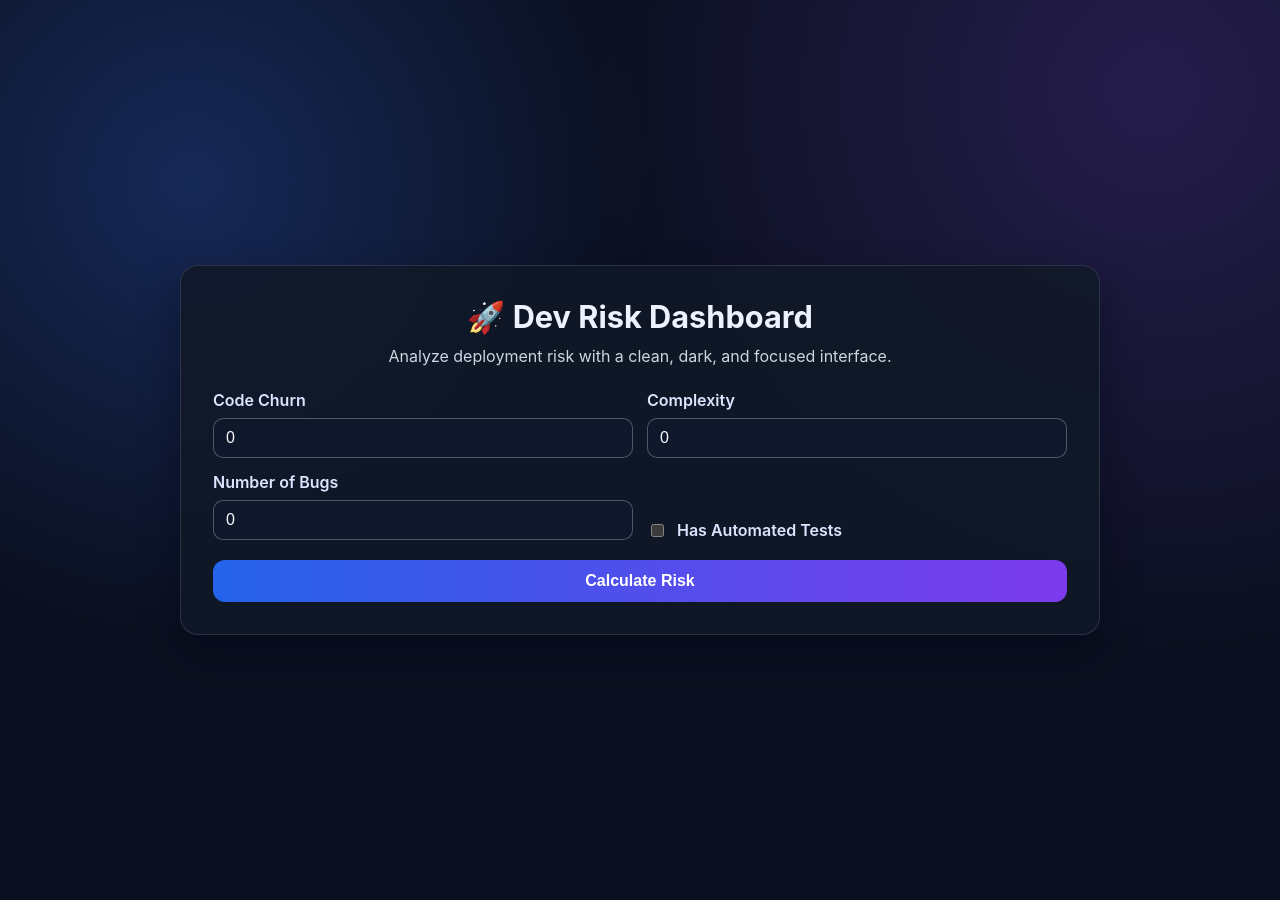
Test: Dev Risk Dashboard › submits data and renders risk result
Step 1. Replace the text in the number field labelled "Code Churn" with "60" → coordinates (423, 438), box [213,418,633,458]
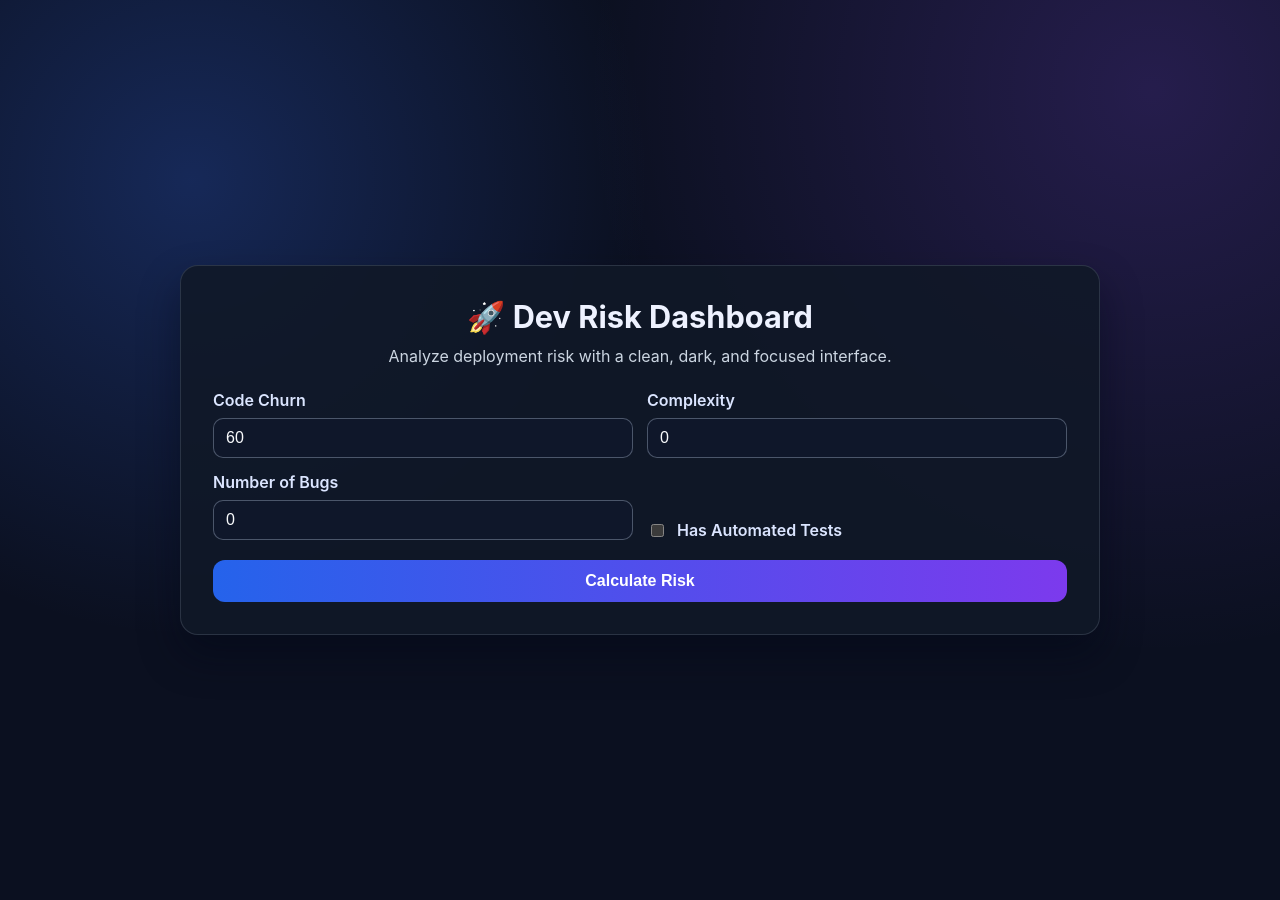
Step 2. Replace the text in the number field labelled "Complexity" with "10" → coordinates (857, 438), box [647,418,1067,458]
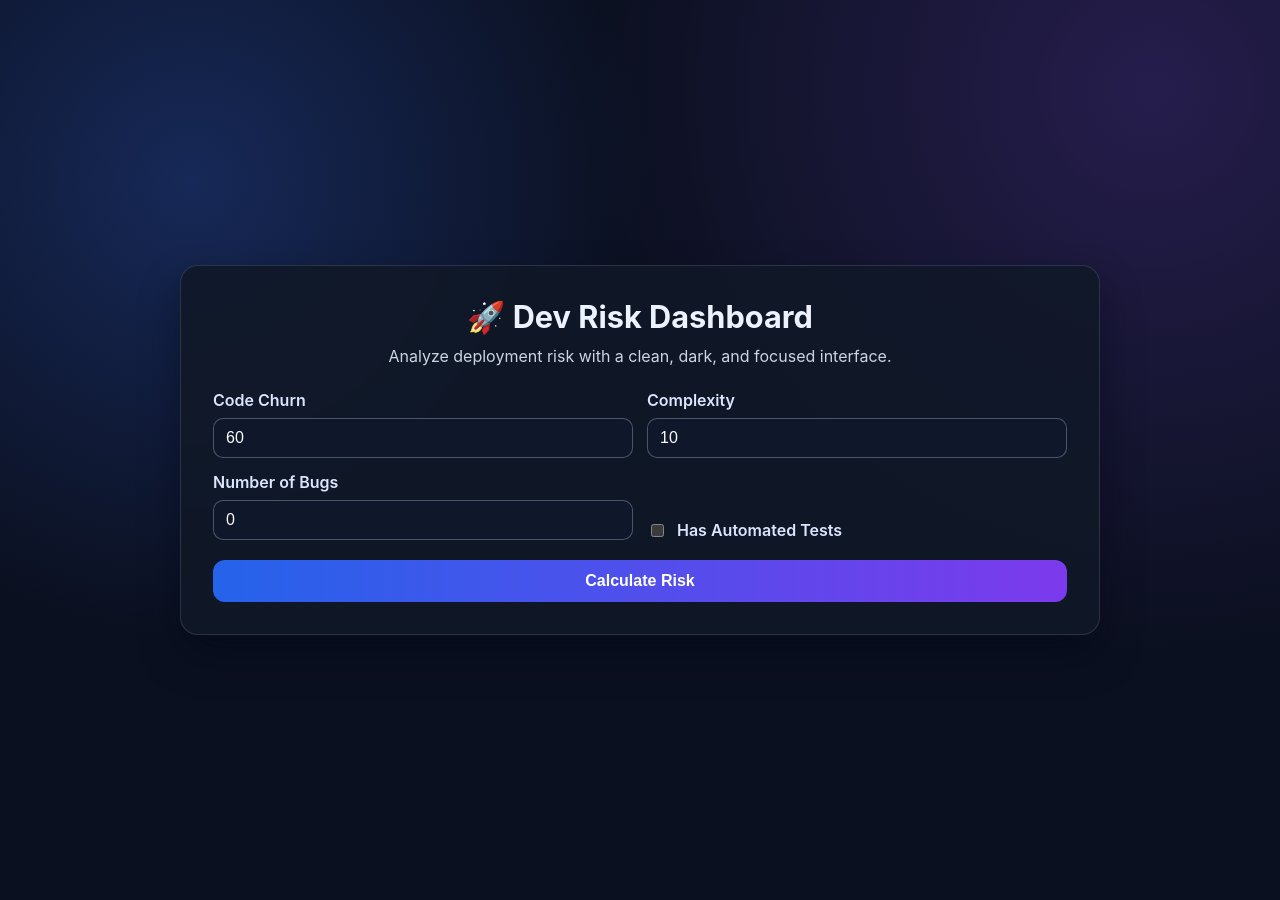
Step 3. Replace the text in the number field labelled "Number of Bugs" with "9" → coordinates (423, 520), box [213,500,633,540]
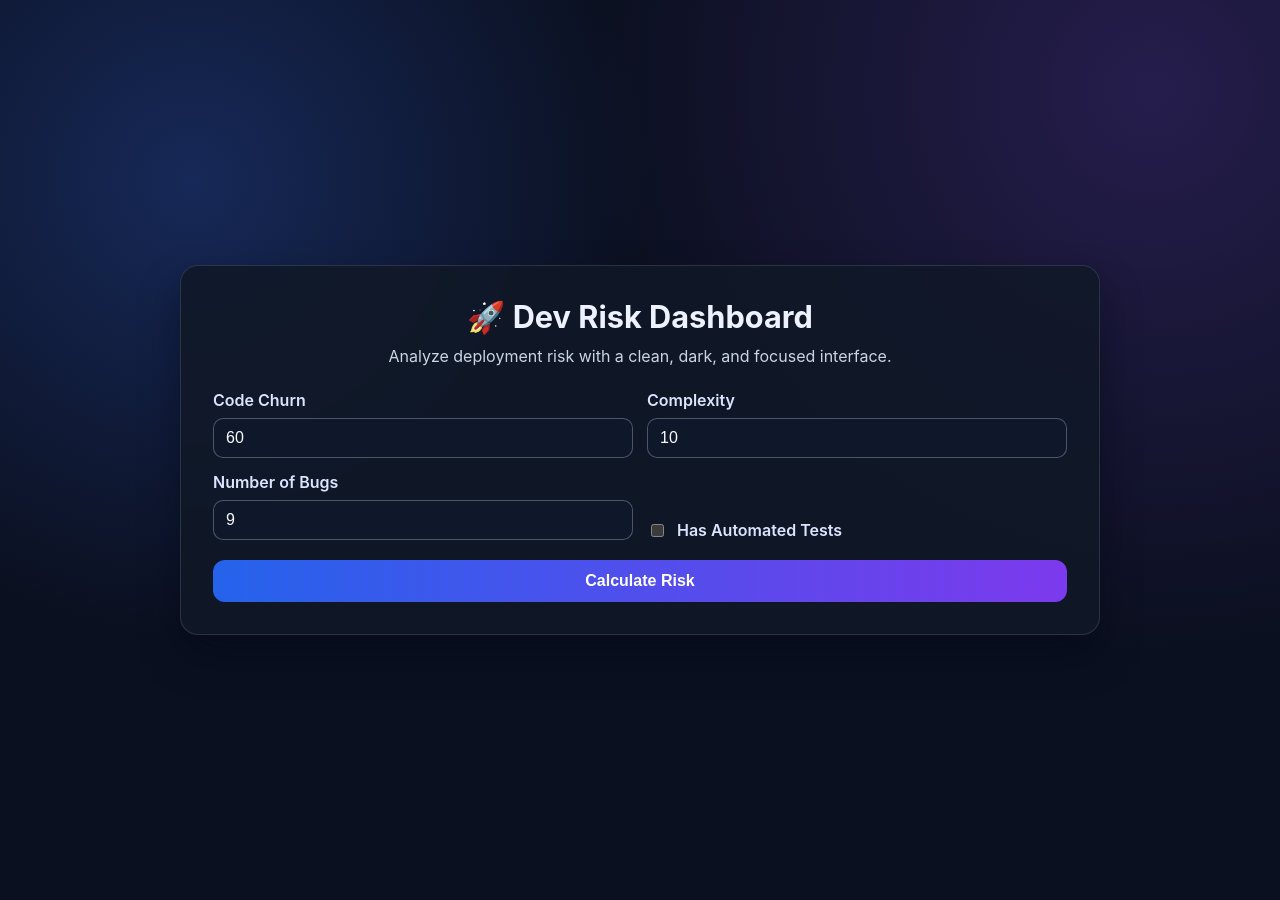
Step 4. Click the button "Calculate Risk" → coordinates (640, 581), box [213,560,1067,602]
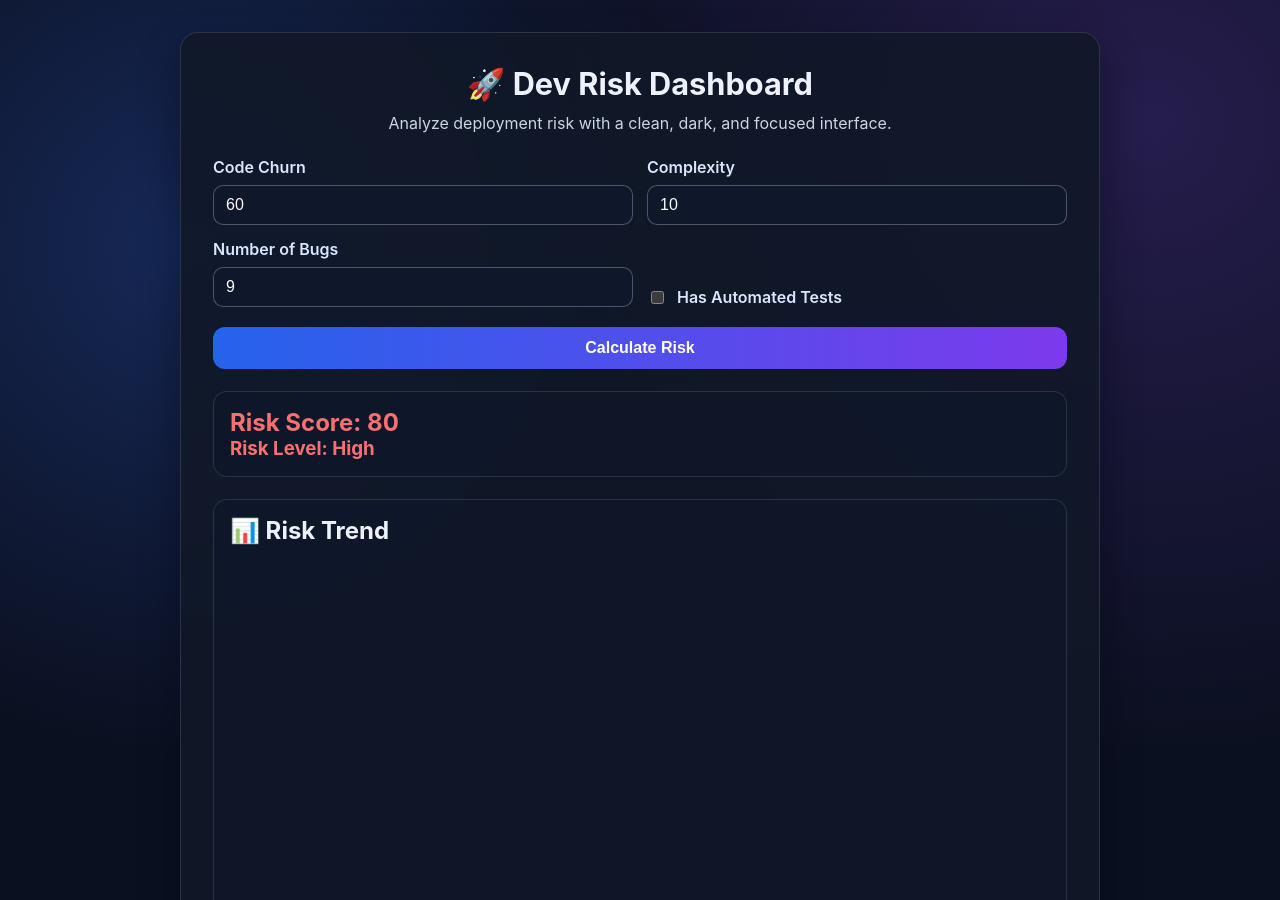
Check: the heading "Risk Score: 80" is shown, box [230,408,399,437]
Check: the heading "Risk Level: High" is shown, box [230,437,375,460]
